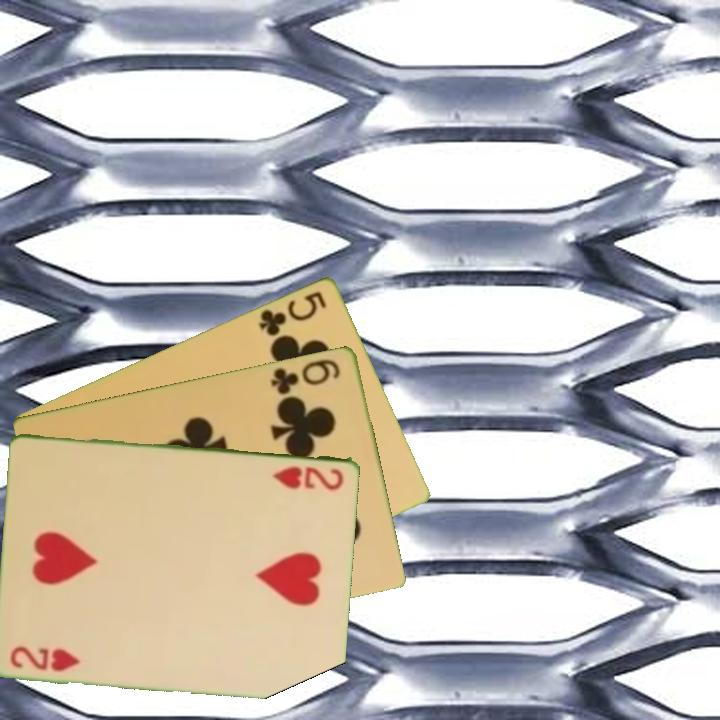2h: (7, 642, 83, 674), (269, 462, 347, 493)
5c: (255, 286, 330, 339)
6c: (267, 355, 344, 397)
